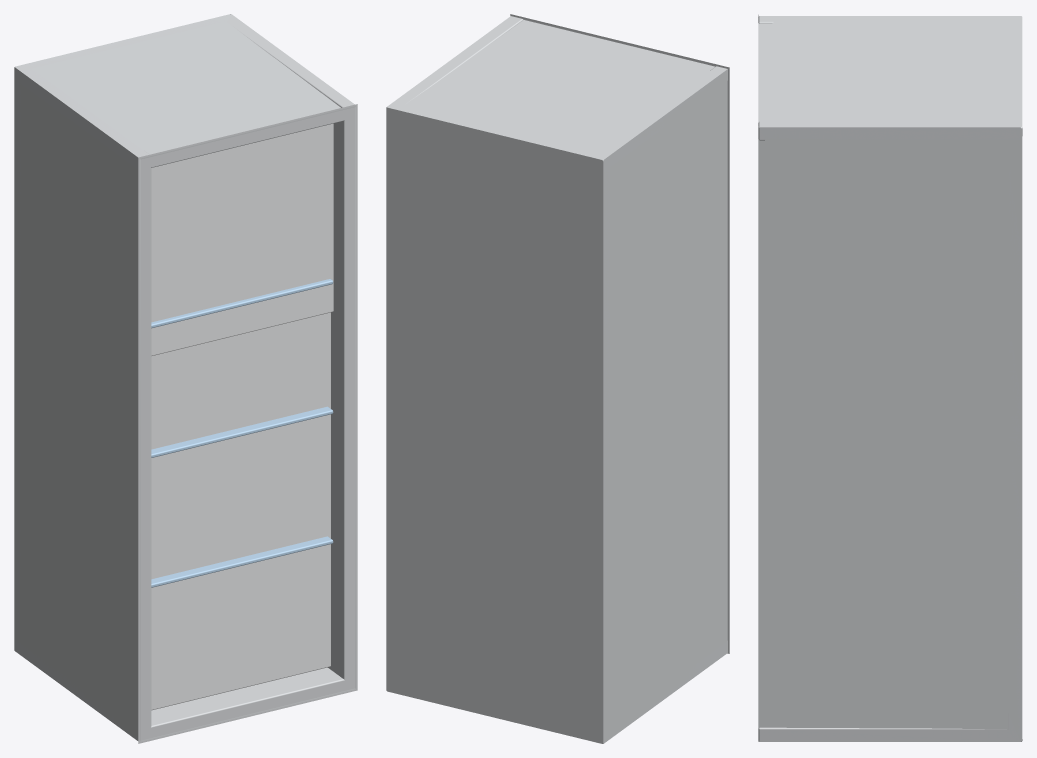
Rendered from SM_FridgeBody.fbx.
3 views of the same model, side by side, from view 1: azimuth 30°, elevation 25°; view 2: azimuth 150°, elevation 25°; view 3: azimuth 270°, elevation 25° (orthographic). The views are drawn at different scales.
Visible parts, largest first — view 1: SM_FridgeBody; view 2: SM_FridgeBody; view 3: SM_FridgeBody.
Boxes of the visible parts, x1,y1,x2,y2 form: SM_FridgeBody: [14, 14, 357, 743]; SM_FridgeBody: [386, 14, 729, 743]; SM_FridgeBody: [758, 14, 1022, 741].
Size of the model in its own units: 0.708 by 1.81 by 0.7008.
